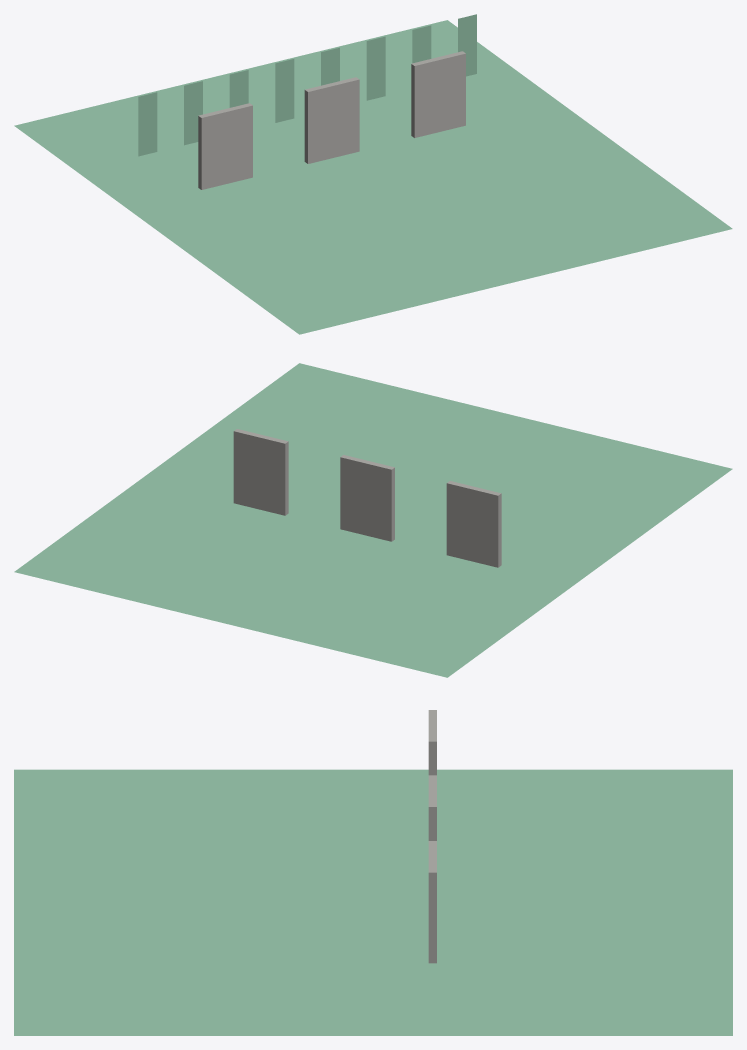
File: occlusion_scatter.gltf
3 renders of one model, top to bottom at view 1: azimuth 30°, elevation 25°; view 2: azimuth 150°, elevation 25°; view 3: azimuth 270°, elevation 25°, orthographic. The views are drawn at different scales.
Visible parts, largest first — view 1: occl_floor, occl_pillar_3, occl_pillar_0, occl_pillar_6; view 2: occl_floor, occl_pillar_0, occl_pillar_6, occl_pillar_3; view 3: occl_floor, occl_pillar_6, occl_pillar_3, occl_pillar_0.
Boxes of the visible parts, bbox=[...] form: occl_floor: bbox=[14, 20, 732, 334]; occl_pillar_3: bbox=[304, 77, 359, 163]; occl_pillar_0: bbox=[198, 103, 252, 189]; occl_pillar_6: bbox=[411, 51, 465, 137]; occl_floor: bbox=[14, 363, 732, 677]; occl_pillar_0: bbox=[446, 481, 501, 567]; occl_pillar_6: bbox=[233, 429, 288, 515]; occl_pillar_3: bbox=[340, 455, 394, 541]; occl_floor: bbox=[14, 769, 732, 1035]; occl_pillar_6: bbox=[428, 841, 436, 963]; occl_pillar_3: bbox=[428, 775, 436, 840]; occl_pillar_0: bbox=[428, 710, 436, 775].
Bounding box in the file's own units: 22.8 × 4.01 × 26.
